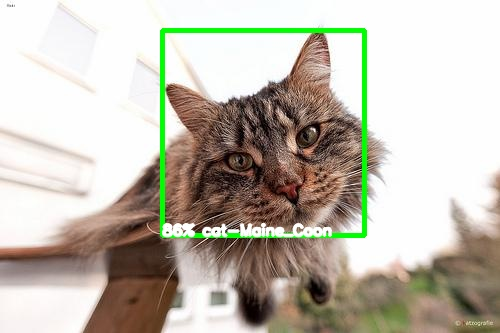cat-Maine_Coon: (165, 31, 356, 235)
